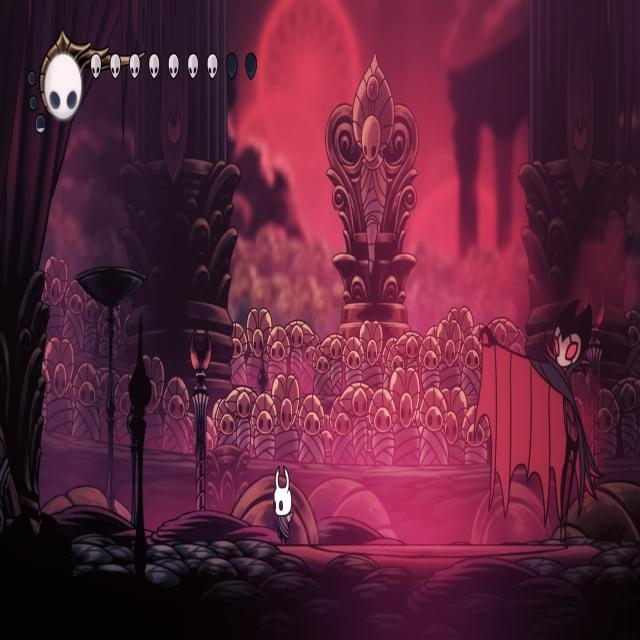Open Cloak: (478, 297, 612, 551)
Player: (274, 462, 296, 549)
